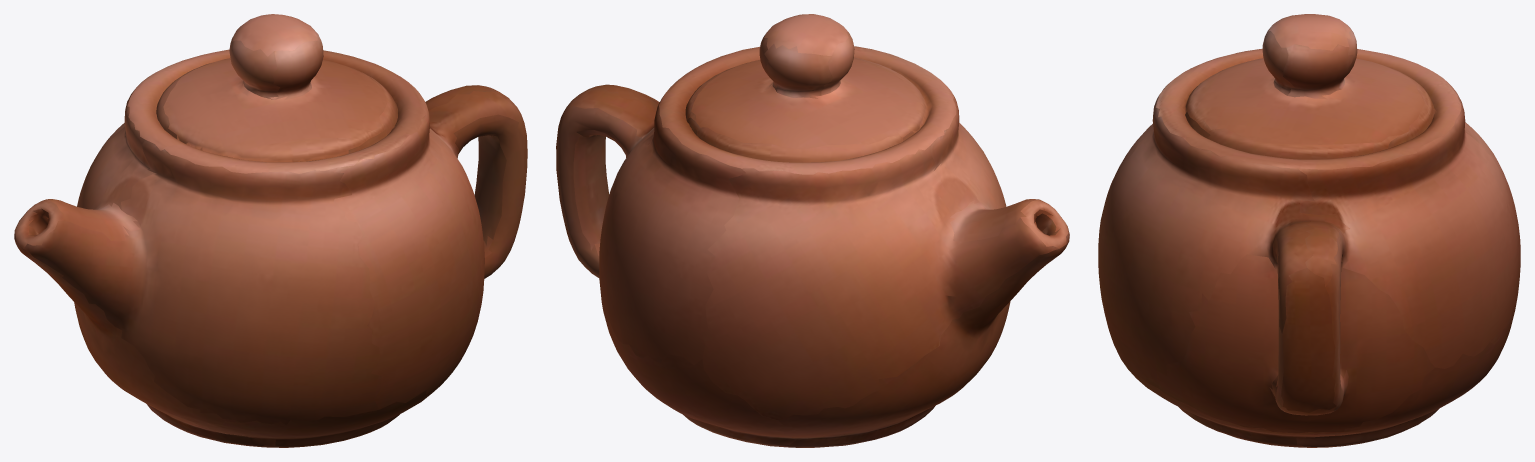
The model's file is naiwa_teapot.glb.
3 renders of one model, left to right at view 1: azimuth 30°, elevation 25°; view 2: azimuth 150°, elevation 25°; view 3: azimuth 270°, elevation 25°, orthographic.
Visible parts, largest first — view 1: geometry_0; view 2: geometry_0; view 3: geometry_0.
Boxes of the visible parts, x1=… form: geometry_0: x1=14, y1=14, x2=527, y2=447; geometry_0: x1=556, y1=14, x2=1069, y2=447; geometry_0: x1=1098, y1=14, x2=1520, y2=447.
Size of the model in its own units: 0.16 by 0.114 by 0.1171.
1 material, 1 textured.
